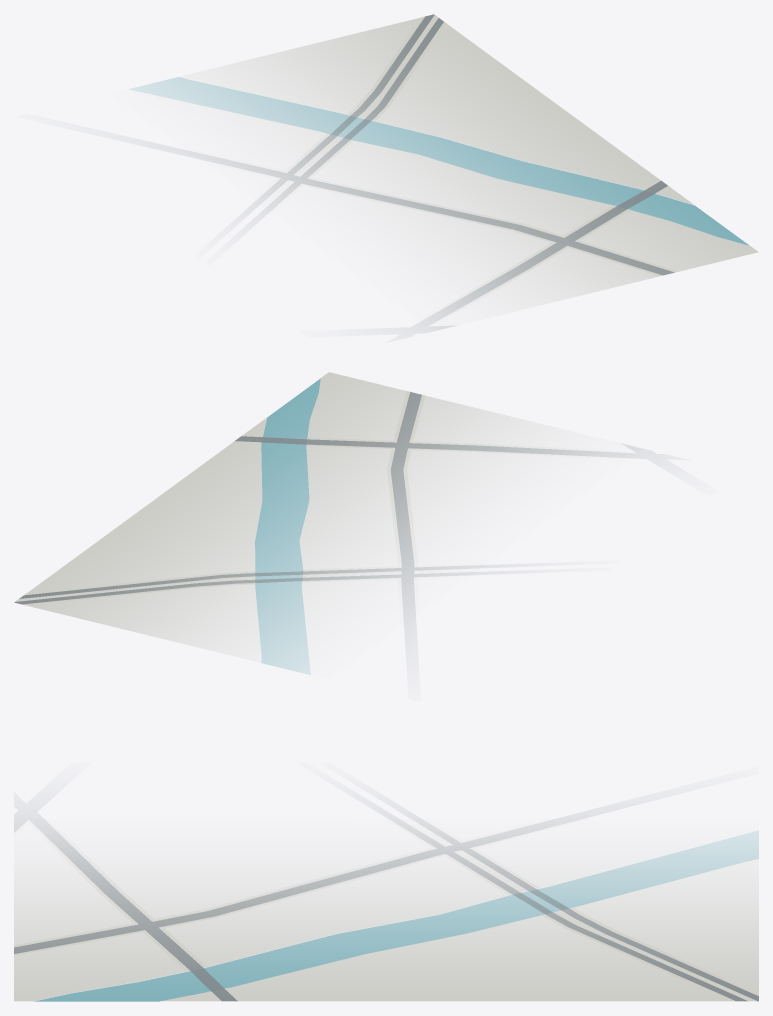
3 renders of one model, top to bottom at view 1: azimuth 30°, elevation 25°; view 2: azimuth 150°, elevation 25°; view 3: azimuth 270°, elevation 25°, orthographic. The views are drawn at different scales.
Visible parts, largest first — view 1: city; view 2: city; view 3: city.
Part boxes in pixels (x1,y1,x2,y2): city: [129, 14, 758, 334]; city: [14, 372, 660, 674]; city: [14, 809, 758, 1001].
Bounding box in the file's own units: 430 × 0.4 × 500.
